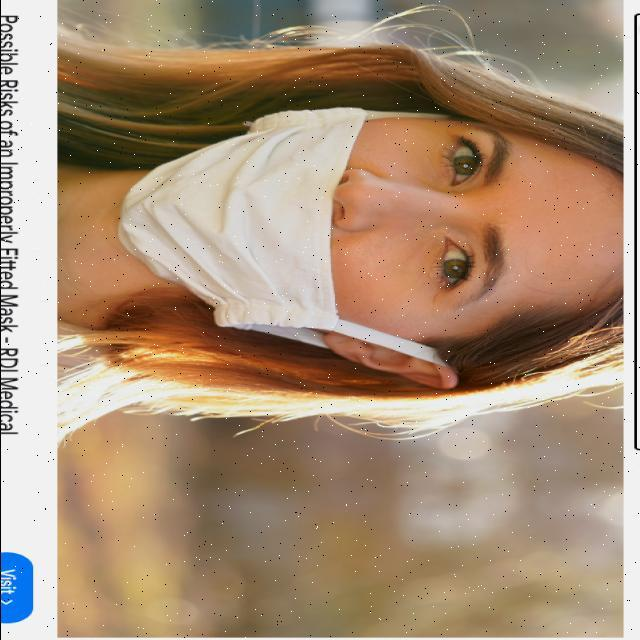face_half_mask: (178, 111, 628, 373)
